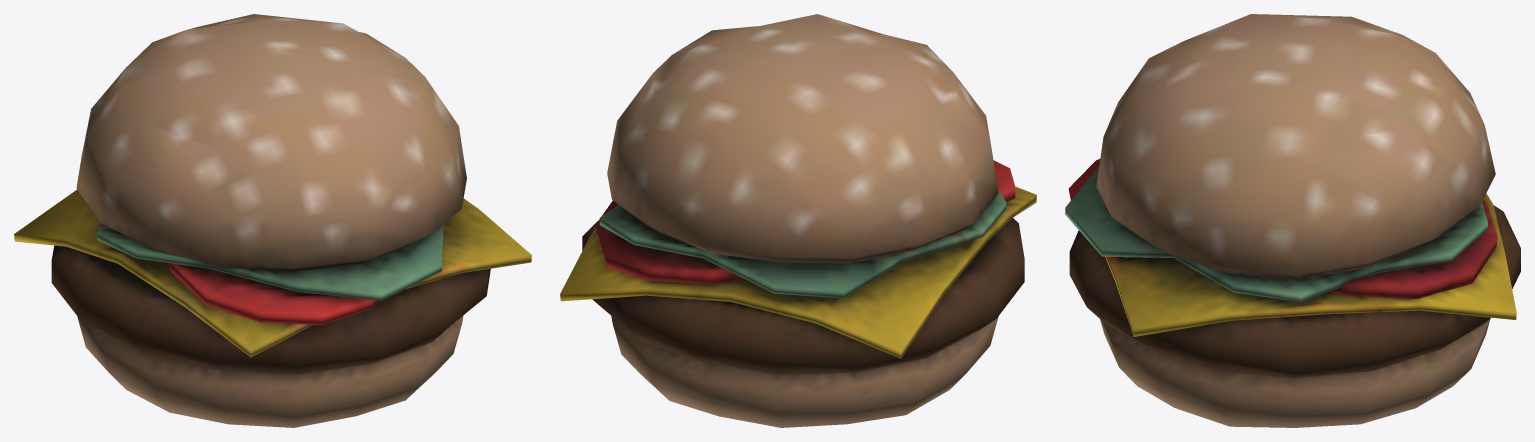
The model's file is burger.glb.
3 views of the same model, side by side, from view 1: azimuth 30°, elevation 25°; view 2: azimuth 150°, elevation 25°; view 3: azimuth 270°, elevation 25° (orthographic).
Parts seen in each view (by area): view 1: burger; view 2: burger; view 3: burger.
Boxes of the visible parts, bbox=[...] form: burger: bbox=[14, 14, 531, 427]; burger: bbox=[560, 14, 1036, 427]; burger: bbox=[1065, 14, 1520, 427].
Bounding box in the file's own units: 0.1919 × 0.1495 × 0.1938.
Materials: 1 (1 with a texture image).
